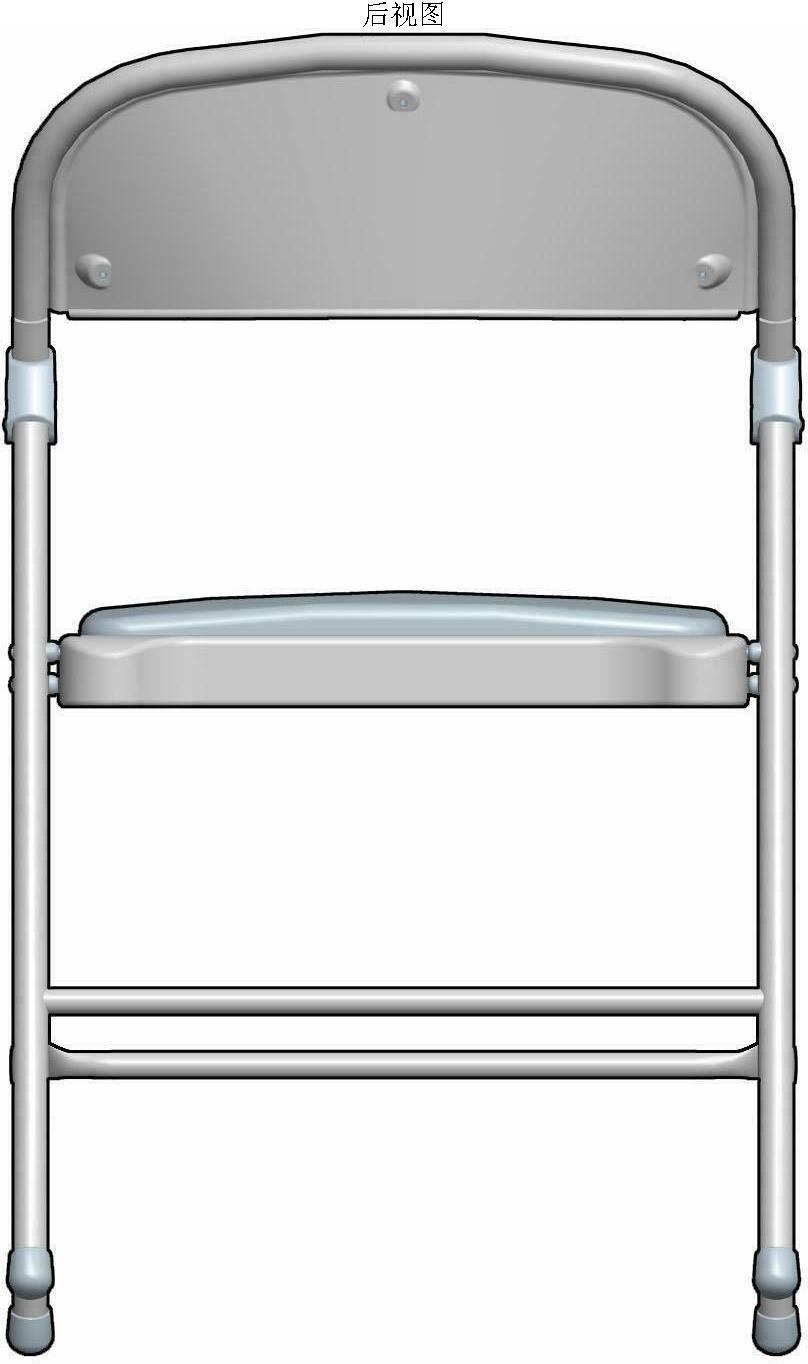obstacle: (7, 35, 798, 1353)
